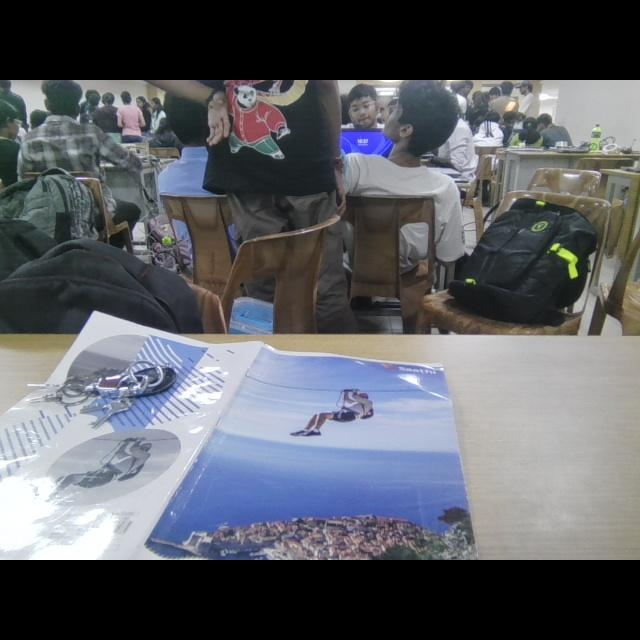keys: (16, 357, 198, 439)
